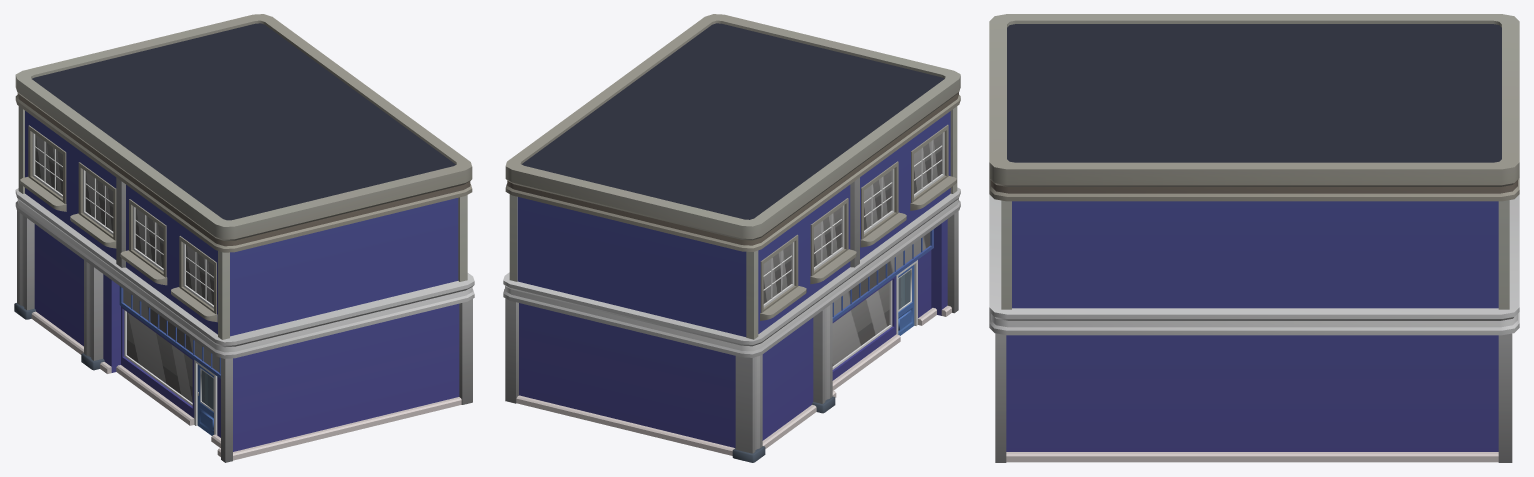
Rendered from Building_11_2_B.glb.
3 renders of one model, left to right at view 1: azimuth 30°, elevation 25°; view 2: azimuth 150°, elevation 25°; view 3: azimuth 270°, elevation 25°, orthographic. The views are drawn at different scales.
Parts seen in each view (by area): view 1: Building_11_2_B; view 2: Building_11_2_B; view 3: Building_11_2_B.
Part boxes in pixels (x1,y1,x2,y2): Building_11_2_B: (14, 14, 474, 462); Building_11_2_B: (503, 14, 960, 462); Building_11_2_B: (989, 14, 1519, 462).
Bounding box in the file's own units: 8.27 × 7.14 × 11.63.
Materials: 3 (3 with a texture image).
